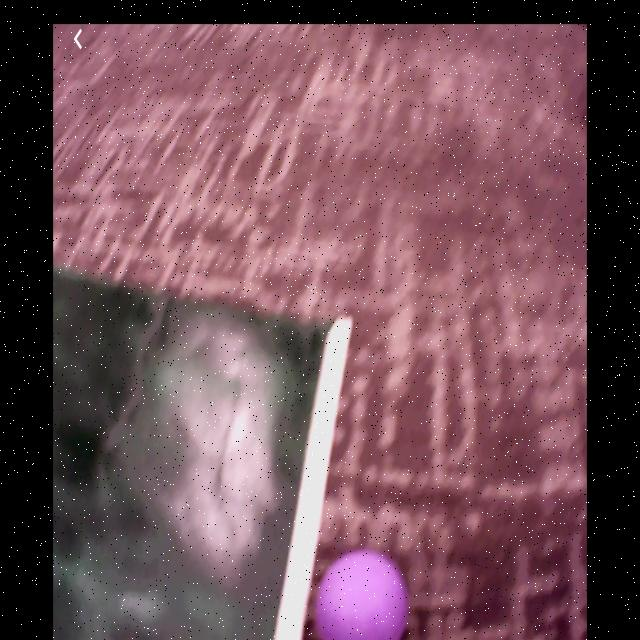ball: (319, 553, 407, 640)
